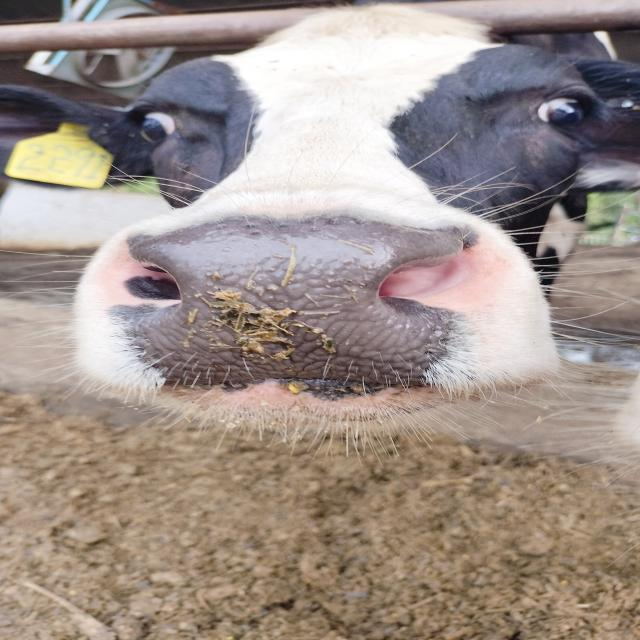muzzles: (94, 209, 502, 406)
